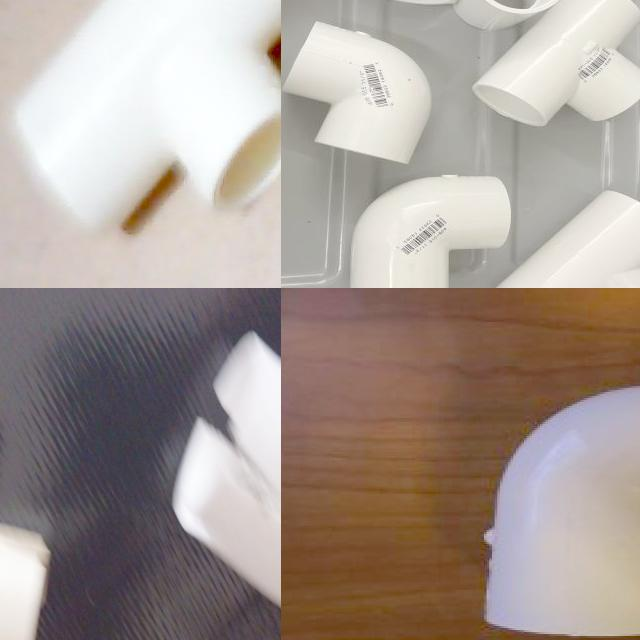L Joint: (19, 288, 271, 550), (483, 388, 640, 640), (281, 22, 435, 165), (347, 175, 513, 288)
T Joint: (472, 0, 640, 128), (498, 190, 640, 288)
